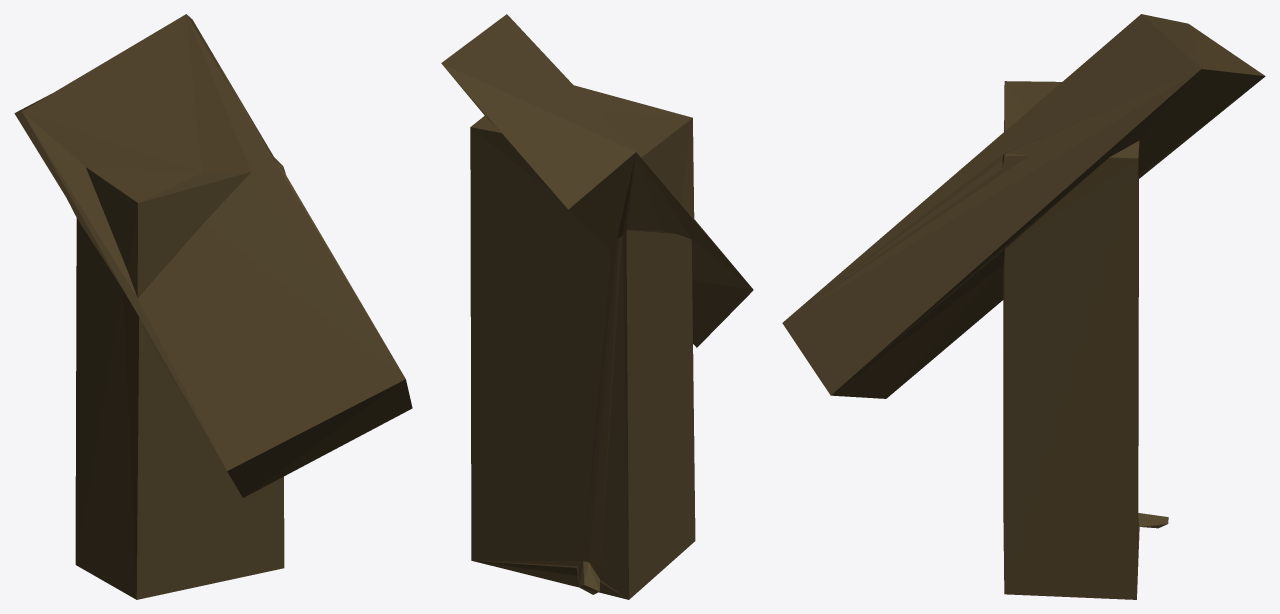
3 renders of one model, left to right at view 1: azimuth 30°, elevation 25°; view 2: azimuth 150°, elevation 25°; view 3: azimuth 270°, elevation 25°, orthographic. The views are drawn at different scales.
Parts seen in each view (by area): view 1: 016_Cube.077; view 2: 016_Cube.077; view 3: 016_Cube.077.
Part boxes in pixels (x1,y1,x2,y2): 016_Cube.077: (14, 14, 412, 599); 016_Cube.077: (441, 14, 753, 599); 016_Cube.077: (782, 14, 1265, 599).
Bounding box in the file's own units: 7.09 × 15.63 × 12.07.
